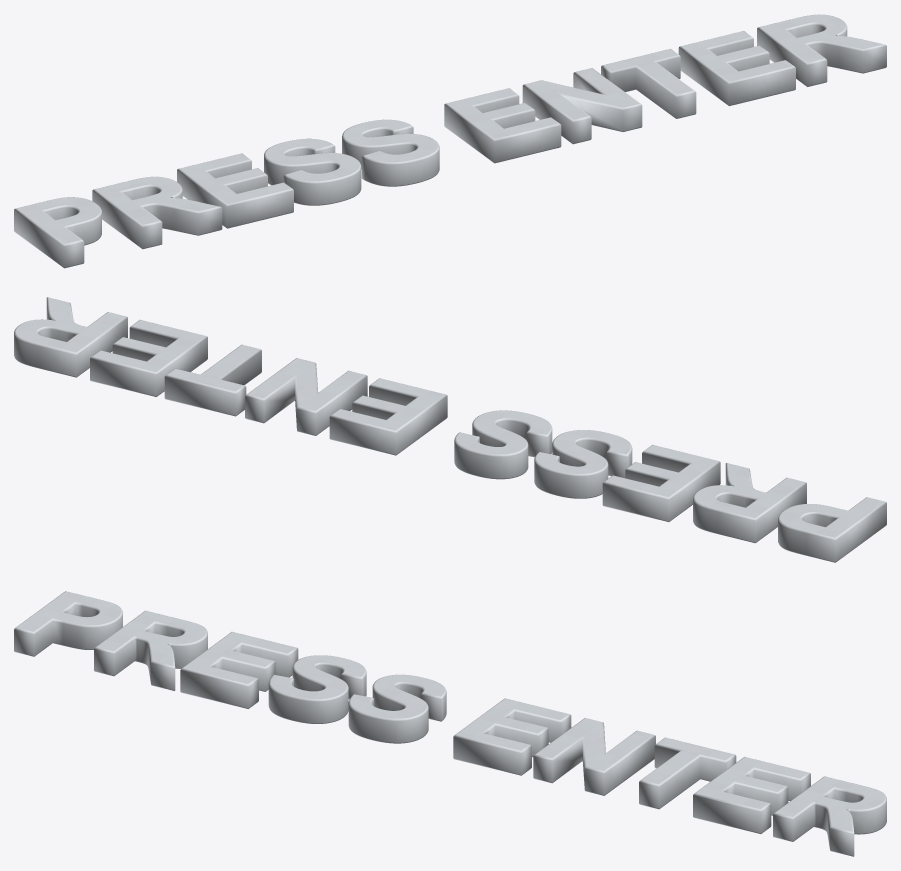
Rendered from press_enter.obj.
3 renders of one model, top to bottom at view 1: azimuth 30°, elevation 25°; view 2: azimuth 150°, elevation 25°; view 3: azimuth 330°, elevation 25°, orthographic. The views are drawn at different scales.
Visible parts, largest first — view 1: PressEnter; view 2: PressEnter; view 3: PressEnter.
Part boxes in pixels (x1,y1,x2,y2): PressEnter: (14, 14, 886, 268); PressEnter: (14, 297, 886, 562); PressEnter: (14, 591, 886, 856).
Bounding box in the file's own units: 6.2 × 0.1747 × 0.6774.
1 material, 1 textured.
